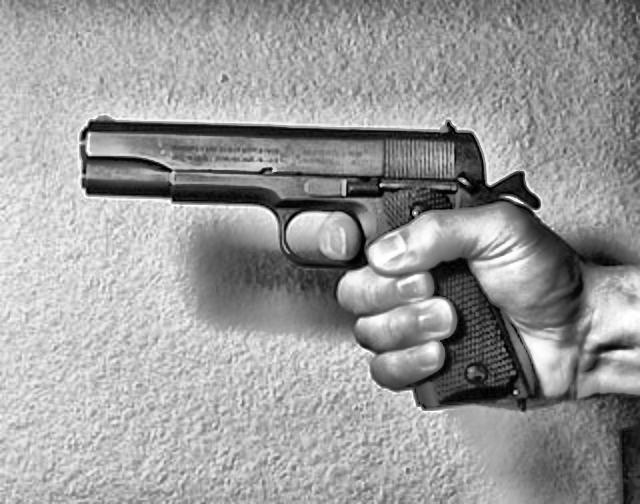pistol: (76, 110, 544, 418)
